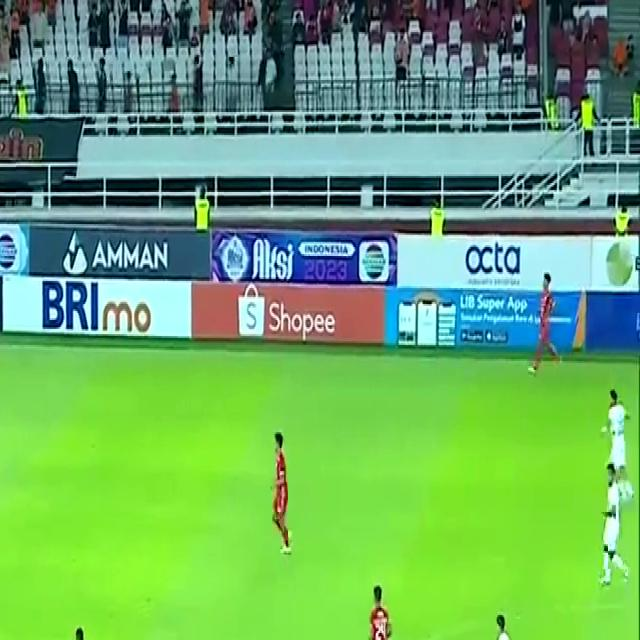soccer-player: (594, 464, 640, 598), (258, 420, 298, 560), (524, 268, 568, 382), (598, 386, 640, 488), (355, 583, 405, 640), (479, 608, 530, 640), (52, 620, 115, 640)
